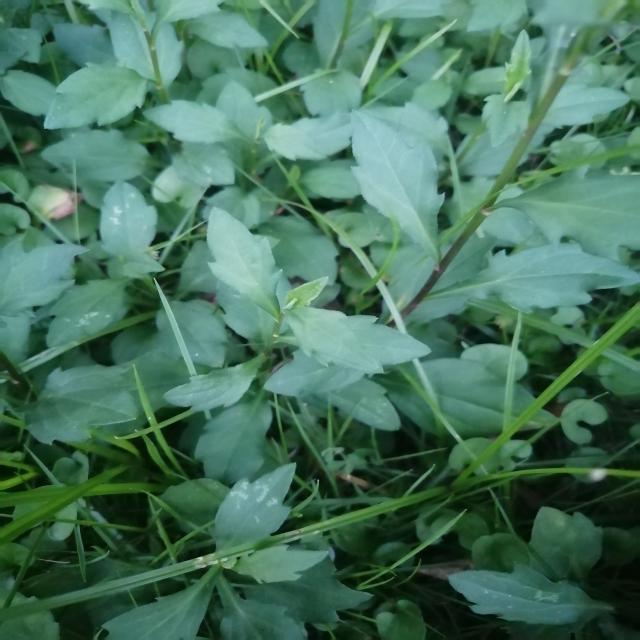Indian aster: (137, 219, 441, 419), (110, 438, 365, 636)
